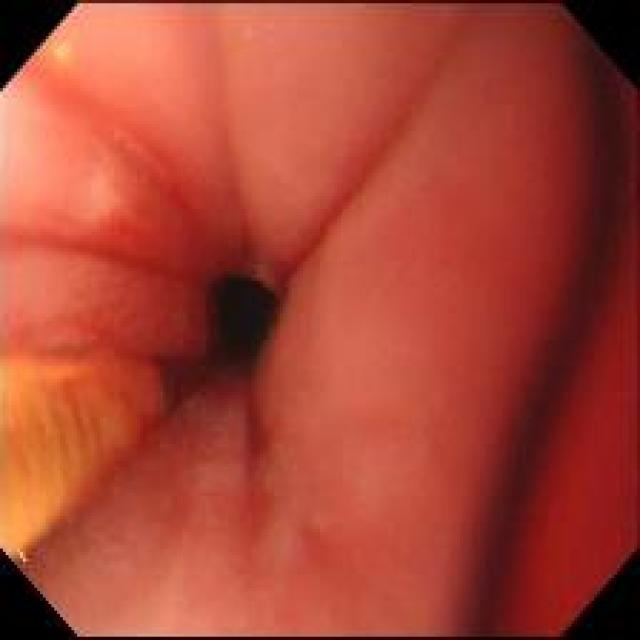color misalignment: (52, 36, 74, 63), (16, 549, 29, 565)
contrast: (205, 263, 278, 368)
instrument: (2, 352, 183, 563)
